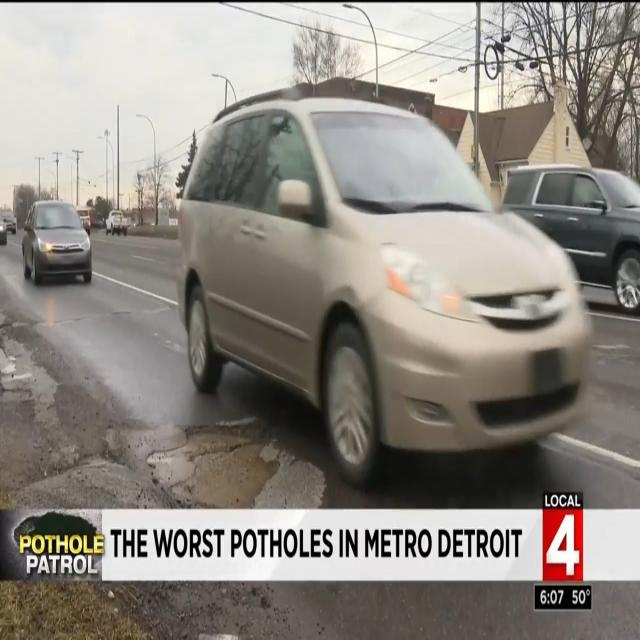pothole: (146, 419, 296, 508)
